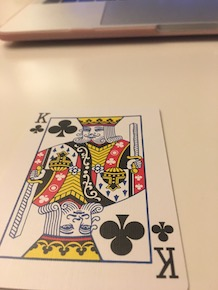KingOfClubs: (1, 103, 193, 290)
